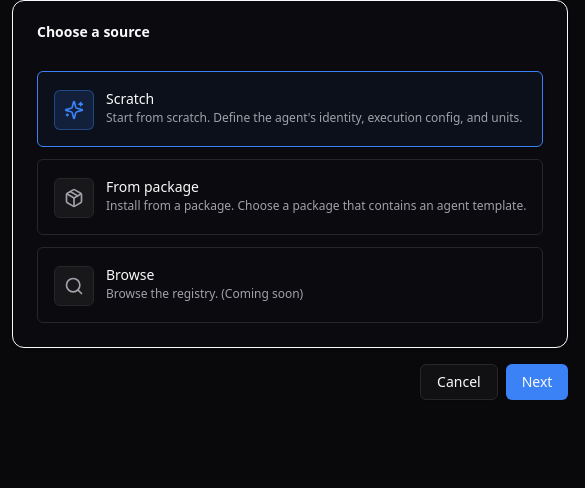
it: AgentCreateForm — package connector requirements (K3) › shows connector requirements after selecting a package that declares them
What coordinates should you click on to do the following:
click the button with test id "agent-source-card-from-package"
I would click on:
 (290, 197)
Its box is left=37, top=159, right=543, bottom=235.
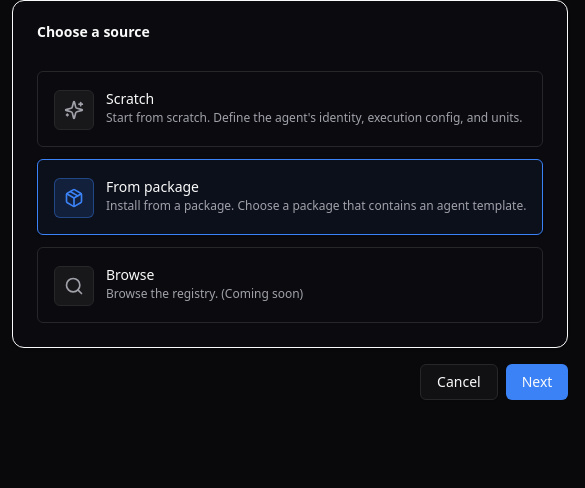
What coordinates should you click on to do the following:
click the button "Next"
I would click on:
 (537, 382)
Its box is left=506, top=364, right=568, bottom=400.
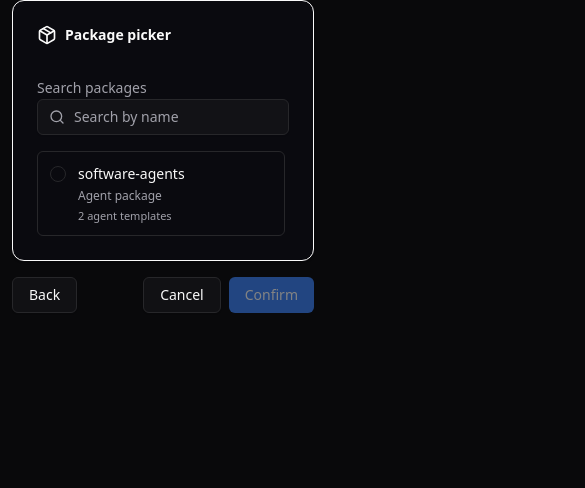
What coordinates should you click on to do the following:
click the radio button with test id "package-picker-item-software-agents"
I would click on:
 (161, 194)
Its box is left=37, top=151, right=285, bottom=236.
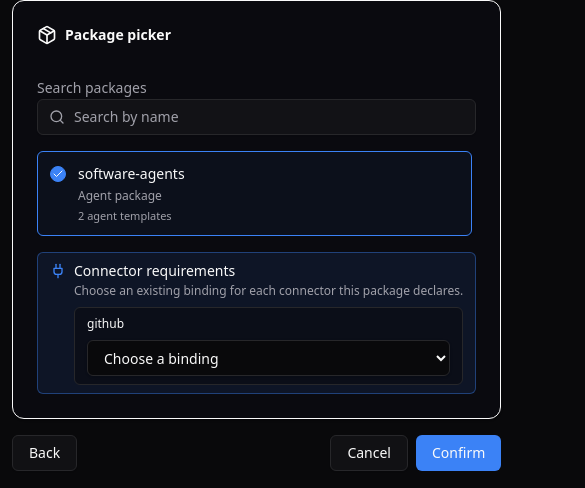
Now the message with test id "package-connector-requirements" shows "Connector requirements", box left=74, top=261, right=235, bottom=280
Now the message with test id "package-connector-requirements" shows "github", box left=87, top=315, right=124, bottom=332
Now the message with test id "package-connector-requirements" shows "Choose an existing binding", box left=74, top=282, right=463, bottom=299
